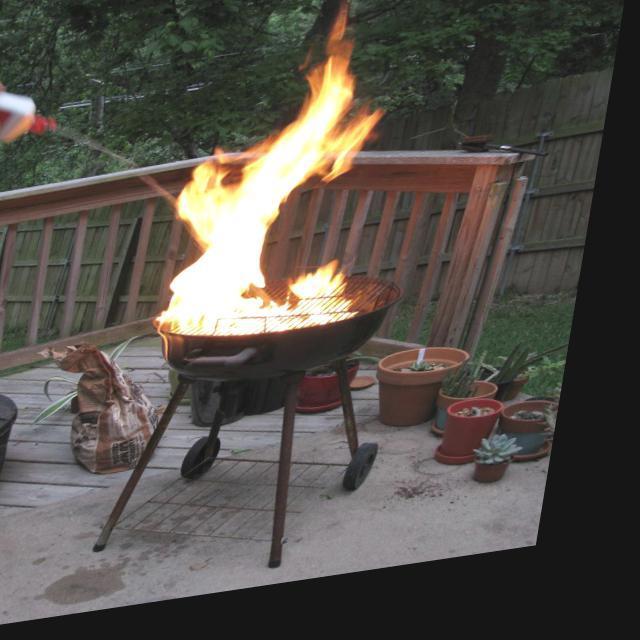Fire: (156, 1, 455, 364)
